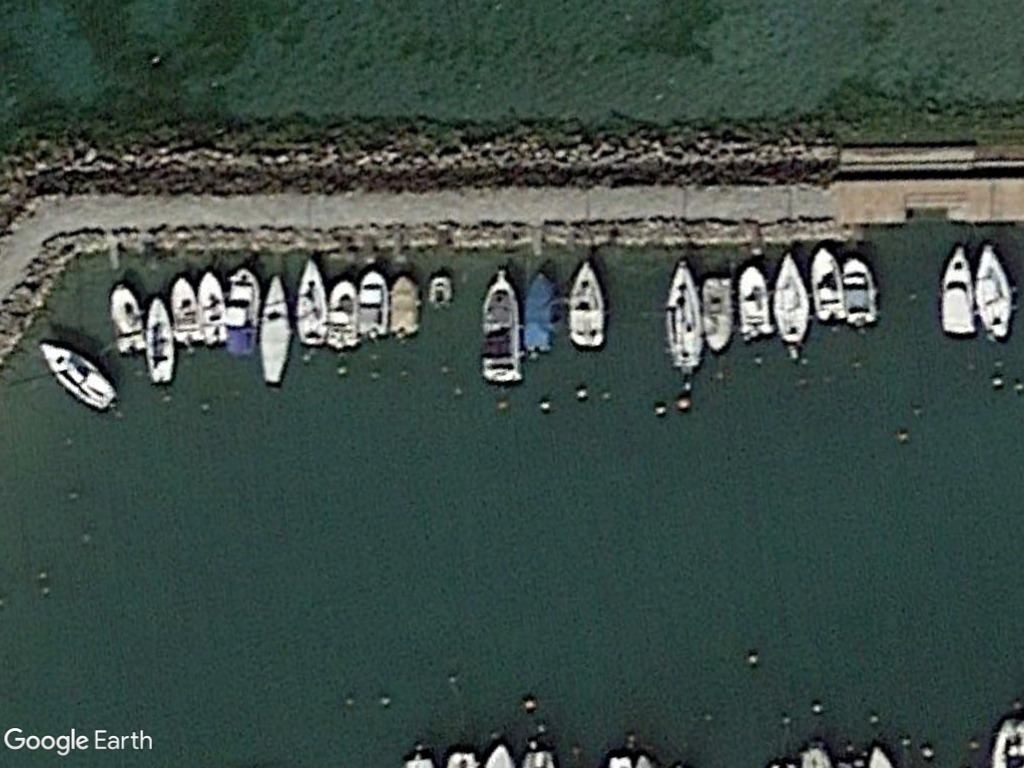boat: (474, 265, 527, 387), (33, 339, 119, 414), (658, 255, 706, 373), (967, 239, 1017, 341), (930, 237, 980, 338), (766, 245, 812, 349), (257, 270, 295, 391), (562, 257, 610, 351), (222, 261, 261, 361), (805, 240, 848, 330), (696, 272, 739, 359), (289, 251, 327, 349), (102, 281, 147, 359), (732, 258, 772, 345), (141, 292, 177, 385), (192, 265, 227, 348), (840, 250, 876, 330), (324, 272, 360, 352), (353, 265, 389, 344), (165, 270, 199, 350), (388, 270, 423, 340)
